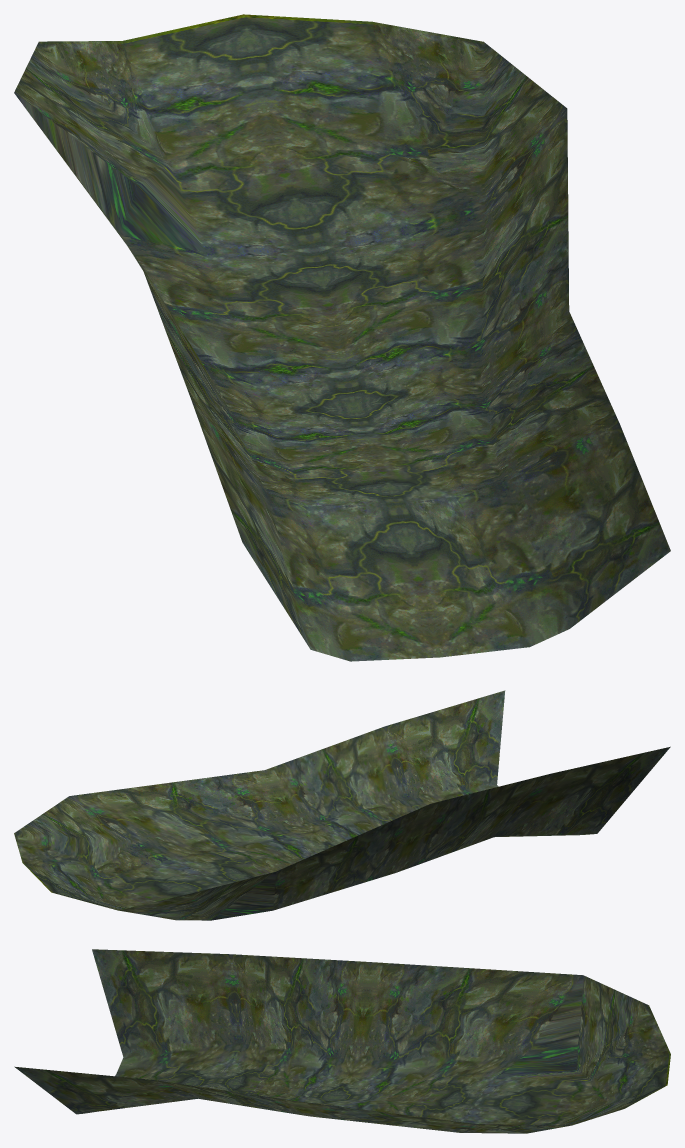
File: 10104_River.FBX
3 renders of one model, top to bottom at view 1: azimuth 30°, elevation 25°; view 2: azimuth 150°, elevation 25°; view 3: azimuth 270°, elevation 25°, orthographic. The views are drawn at different scales.
Visible parts, largest first — view 1: Plane022; view 2: Plane022; view 3: Plane022.
Part boxes in pixels (x1,y1,x2,y2): Plane022: [14, 14, 670, 661]; Plane022: [14, 690, 670, 920]; Plane022: [14, 949, 670, 1133].
Size of the model in its own units: 1368 by 444 by 2099.
